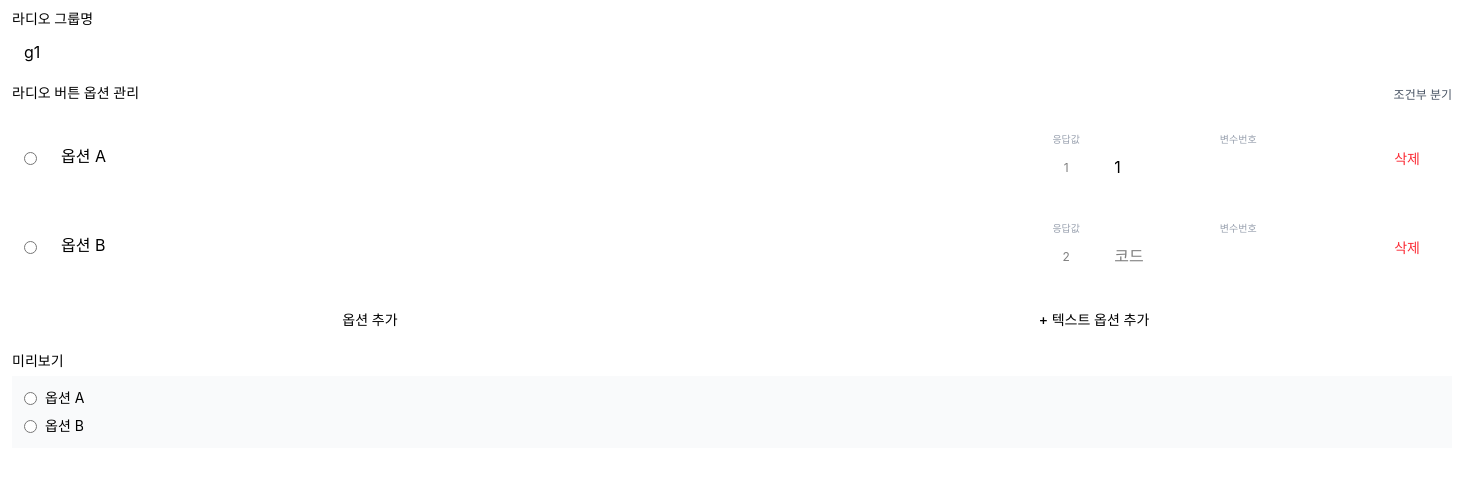
Test: CellChoiceEditor 응답값(변수번호) 입력 배선 › 충돌 없이 재입력하면 경고가 사라진다
This screenshot has width=1464, height=482.
Type "1" into the field with placeholder "코드". click: (1238, 256)
box: [1102, 238, 1374, 274]
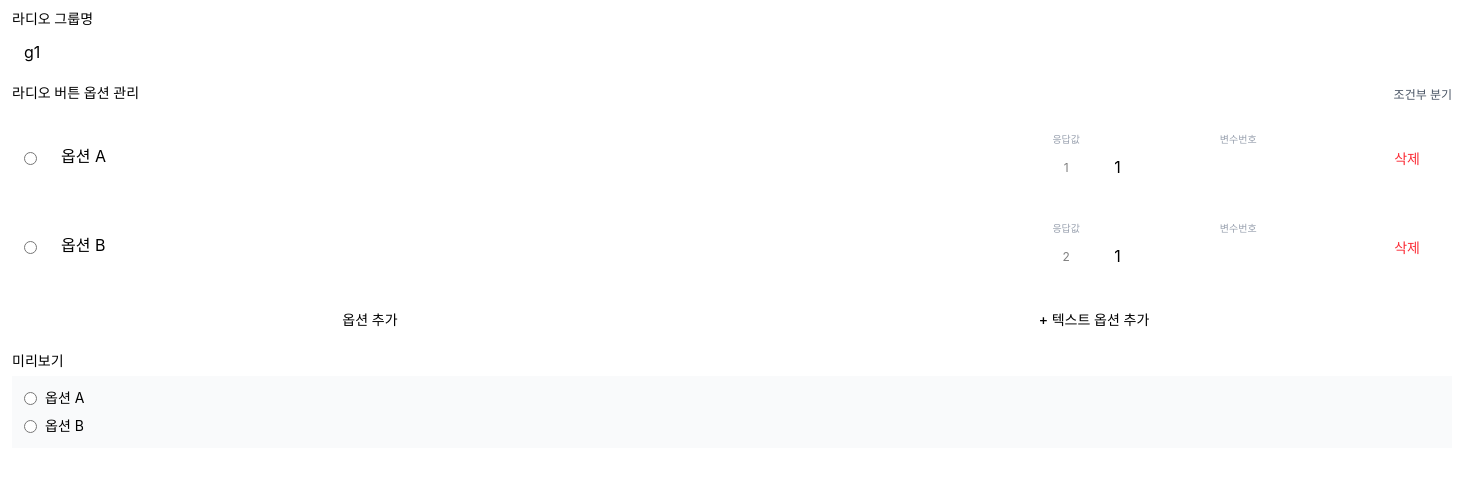
Press Tab
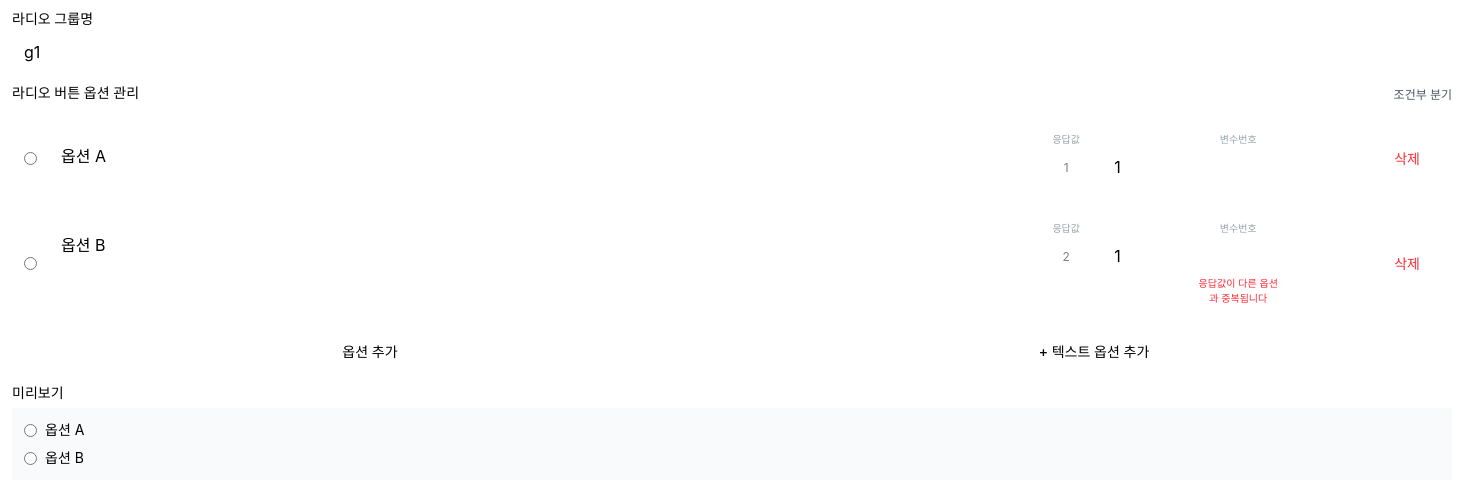
Expected: the text "응답값이 다른 옵션과 중복됩니다" is shown, [1198, 276, 1278, 306]
Replace the text in the 2nd field with placeholder "코드" with "9". click: (1238, 256)
box: [1102, 238, 1374, 274]
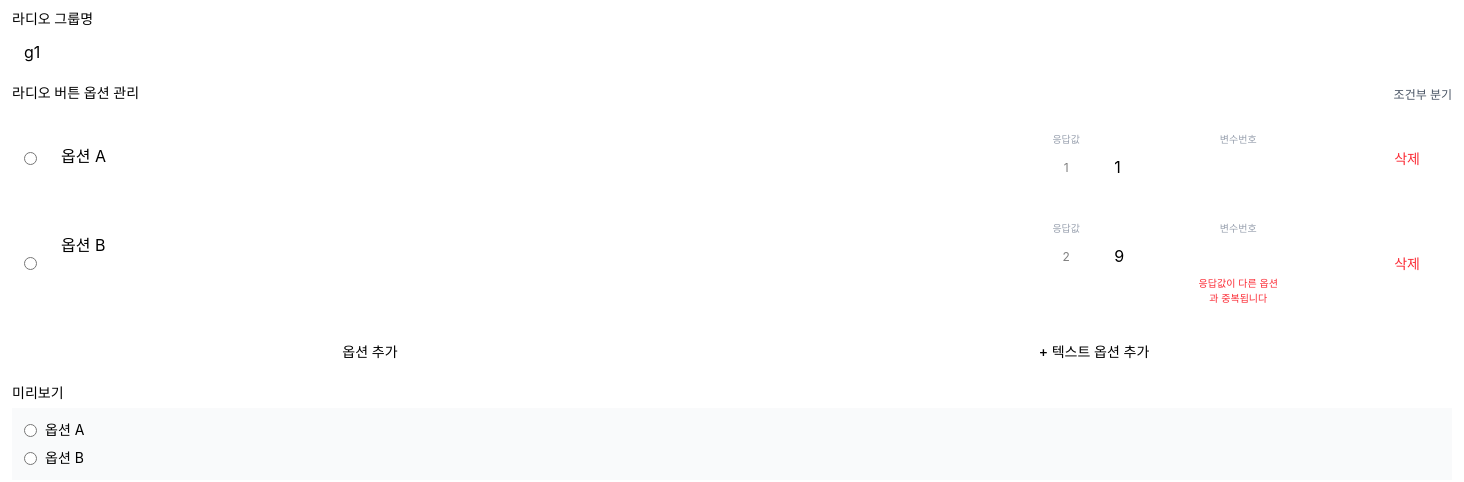
Press Tab
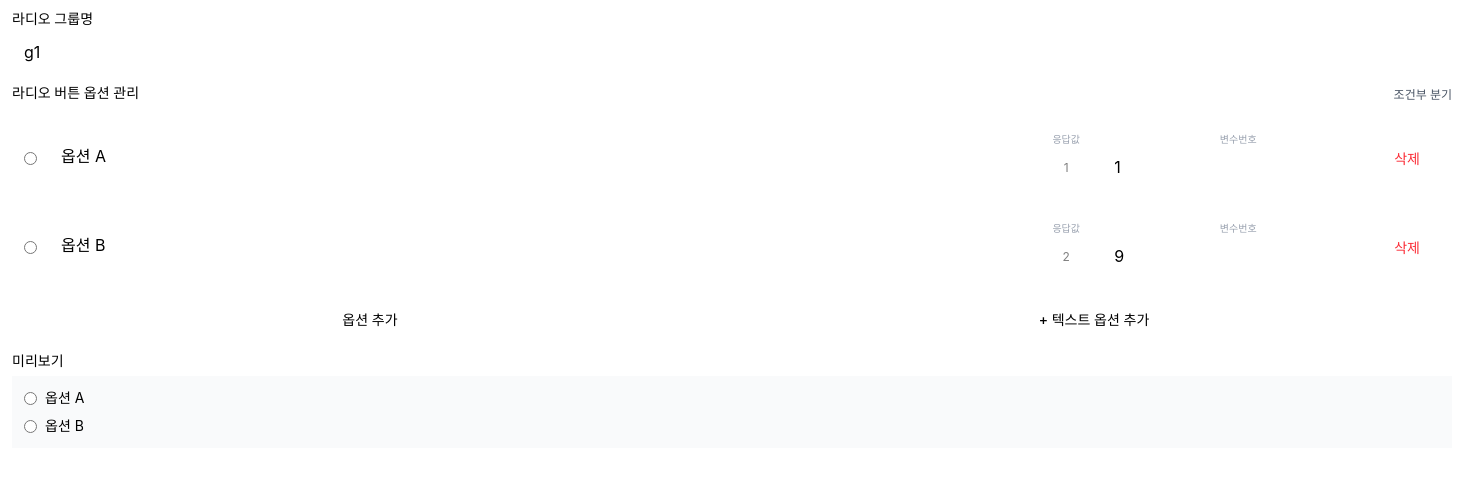
Expected: the text "응답값이 다른 옵션과 중복됩니다" is gone
